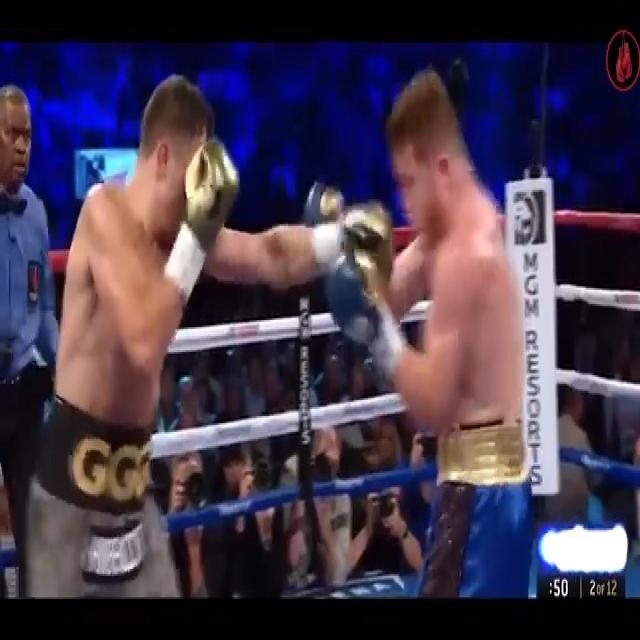Jab: (142, 100, 426, 470)
